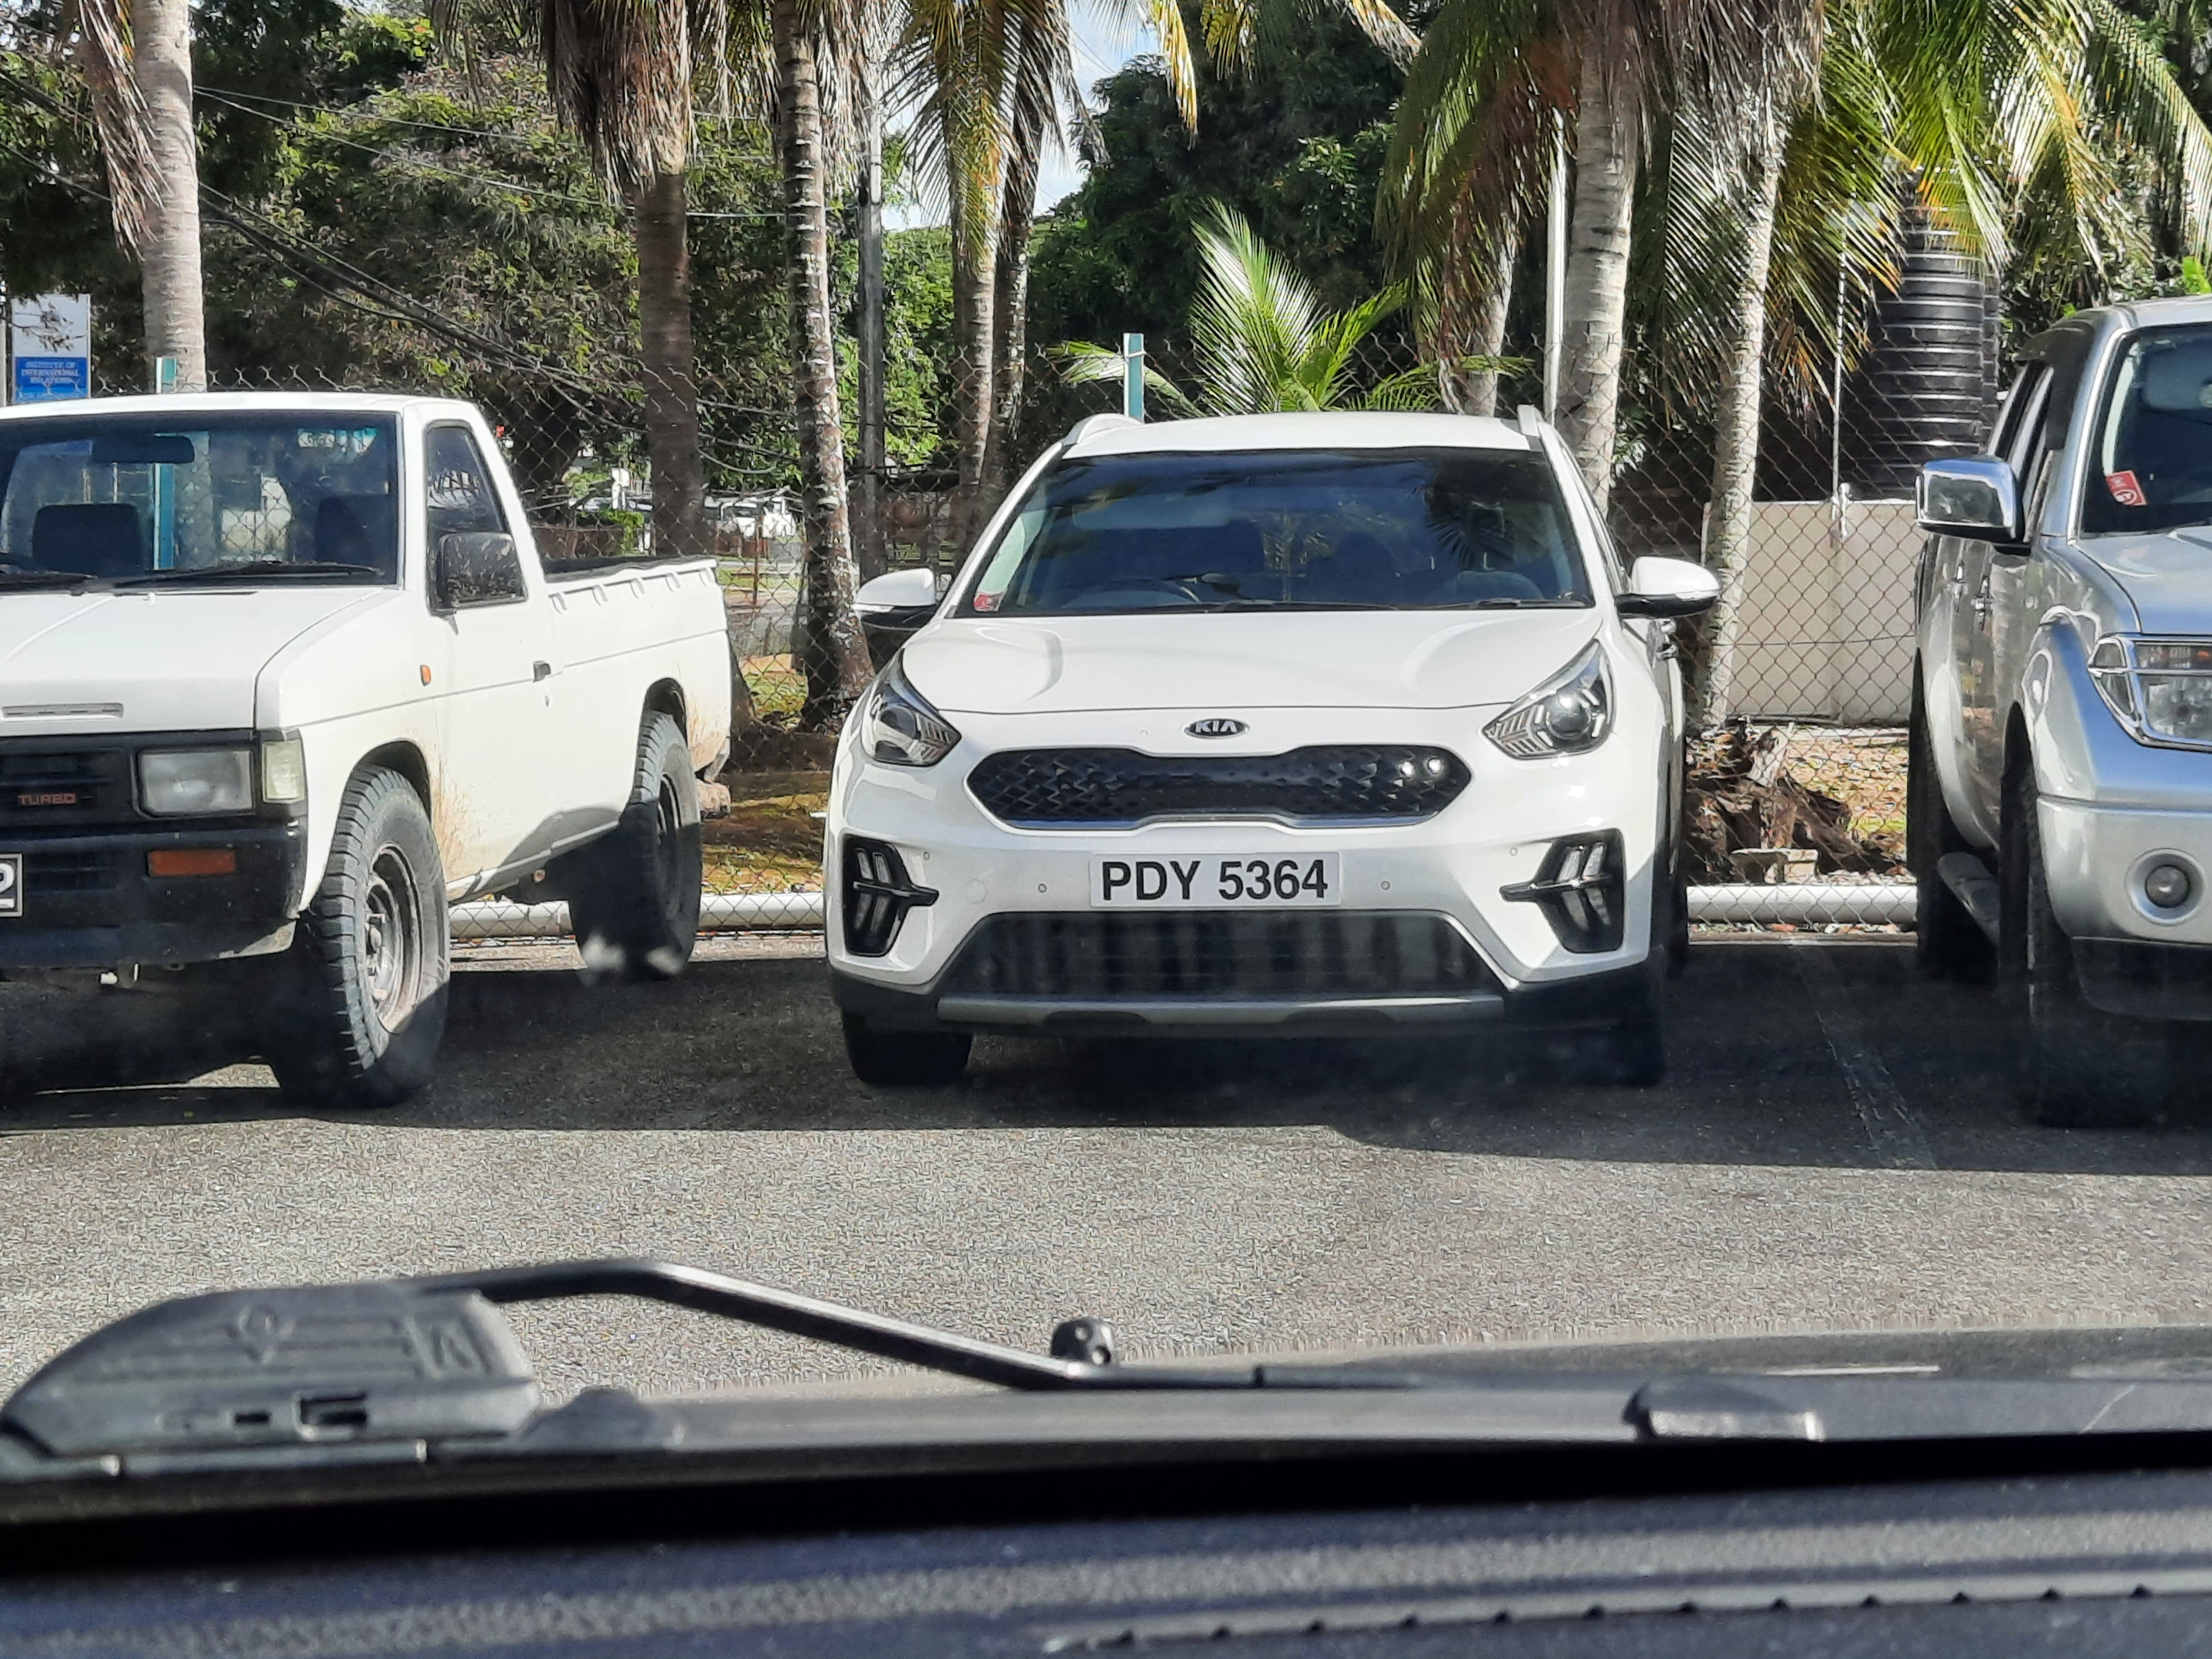License-Plate: (1085, 851, 1343, 908)
